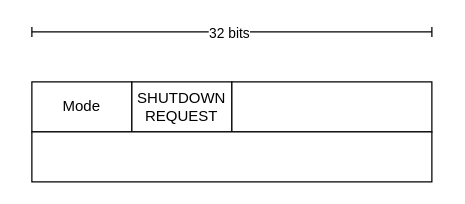
The diagram is 465 pixels wide and 204 high, and some of its shapes have lost their labels. The shapes that lost their labels are listed below. From the top down, each one's centre as x and y in pixels, then its label:
At pixel 331 106: "Unused".
At pixel 231 156: "Task Id".
